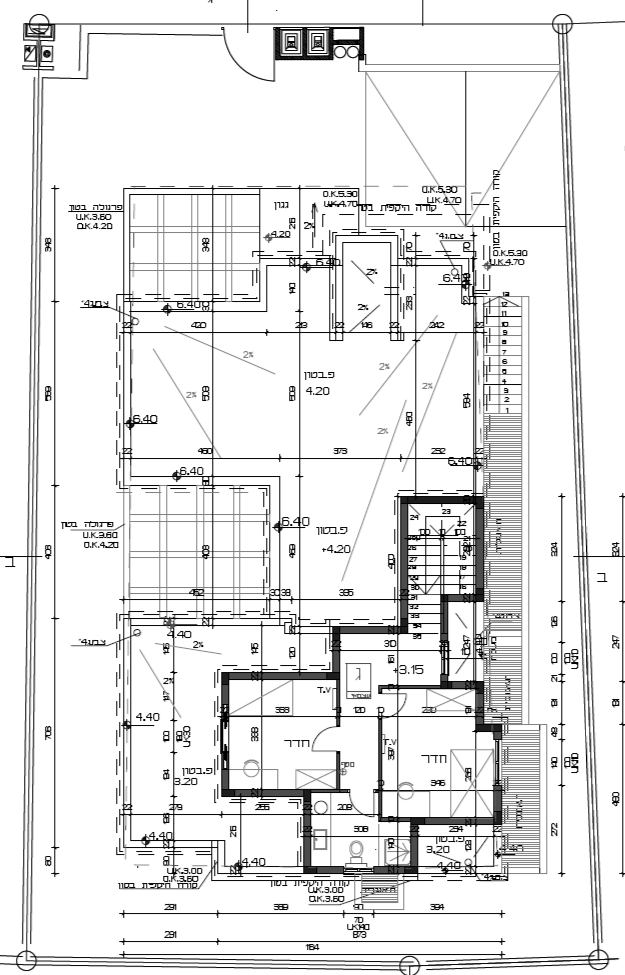door: (311, 721, 343, 755), (373, 689, 407, 721), (345, 786, 377, 820)
wall: (474, 493, 485, 602), (400, 498, 408, 618), (222, 790, 311, 798), (223, 672, 340, 678)
window: (491, 736, 502, 783), (217, 713, 227, 762), (439, 634, 449, 683), (338, 866, 381, 877)
